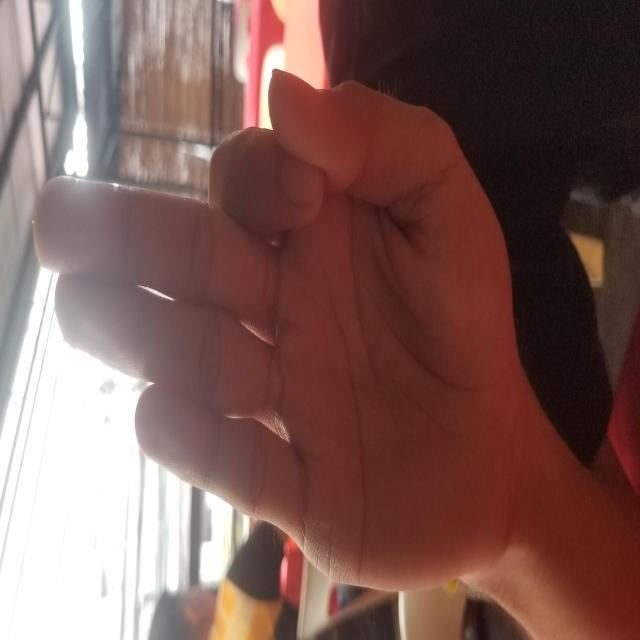F: (44, 29, 576, 522)
